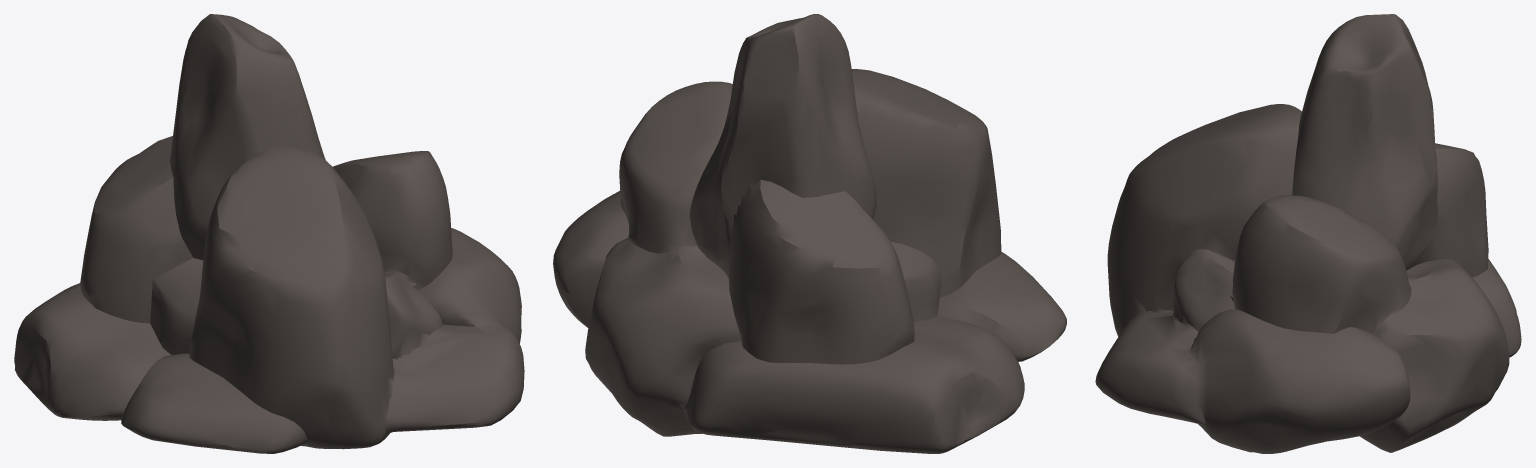
Rendered from Environment_Cliff2.gltf.
The picture shows the model from 3 angles, left to right: view 1: azimuth 30°, elevation 25°; view 2: azimuth 150°, elevation 25°; view 3: azimuth 270°, elevation 25°; orthographic projection. The views are drawn at different scales.
Visible parts, largest first — view 1: Environment_Cliff2; view 2: Environment_Cliff2; view 3: Environment_Cliff2.
Part boxes in pixels (<box>): Environment_Cliff2: <box>14,14,524,453</box>; Environment_Cliff2: <box>553,14,1066,453</box>; Environment_Cliff2: <box>1095,14,1521,453</box>.
Size of the model in its own units: 8 by 6.91 by 7.11.
1 material, 1 textured.
